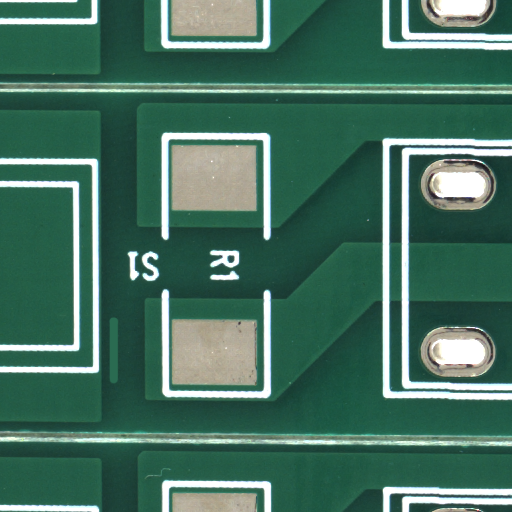Spurious_copper: (114, 349, 130, 419)
